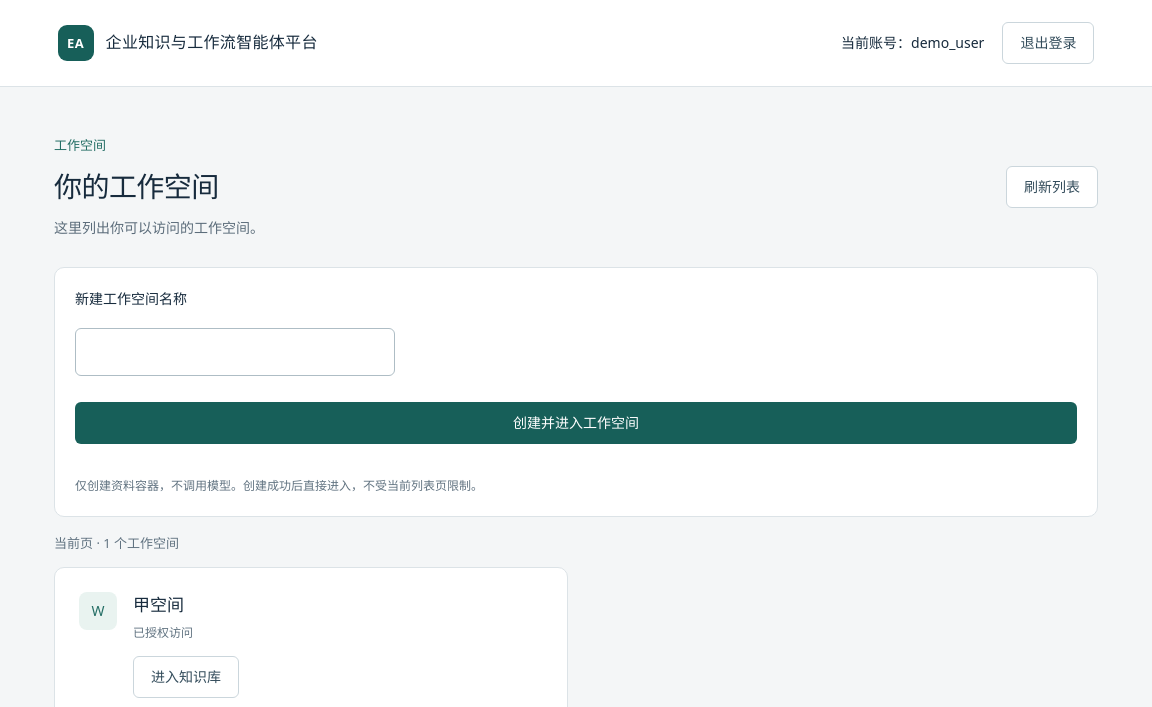
Test case: self-service workspace and knowledge-base setup › logout cancels an in-flight creation and a late 201 cannot reopen the workspace
Type "迟到空间" into the field labelled "新建工作空间名称" at (235, 352), box [75,328,395,376]
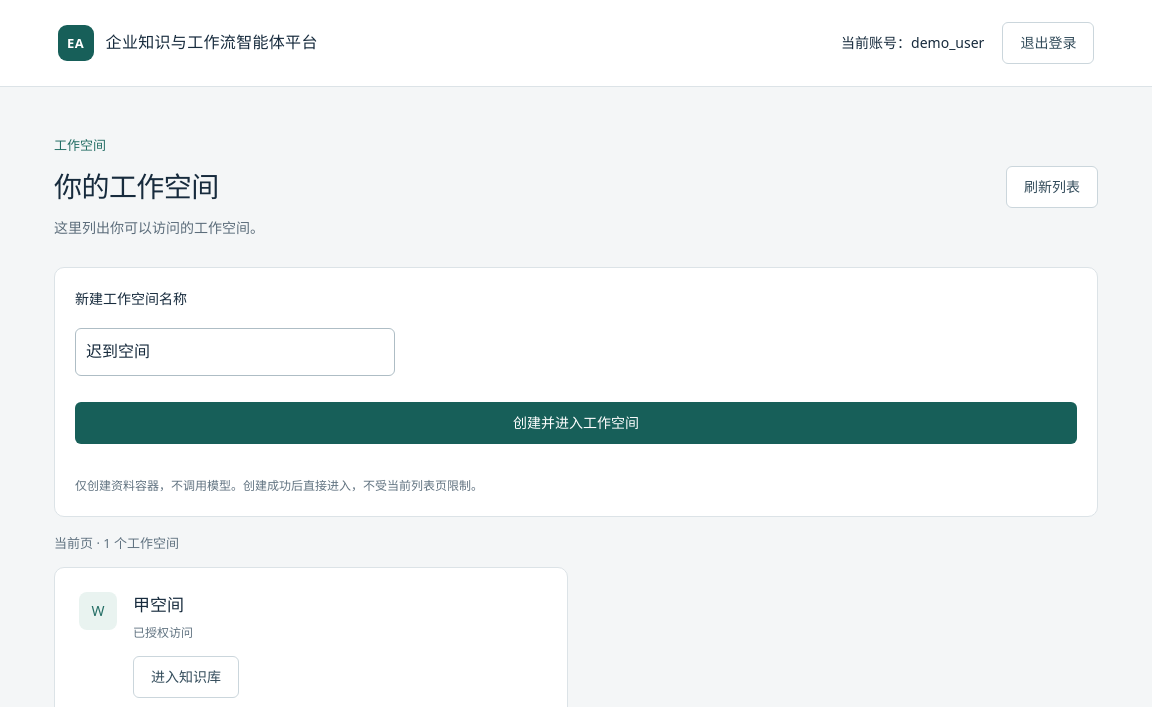
Click the button "创建并进入工作空间" at (576, 423), box [75,402,1077,444]
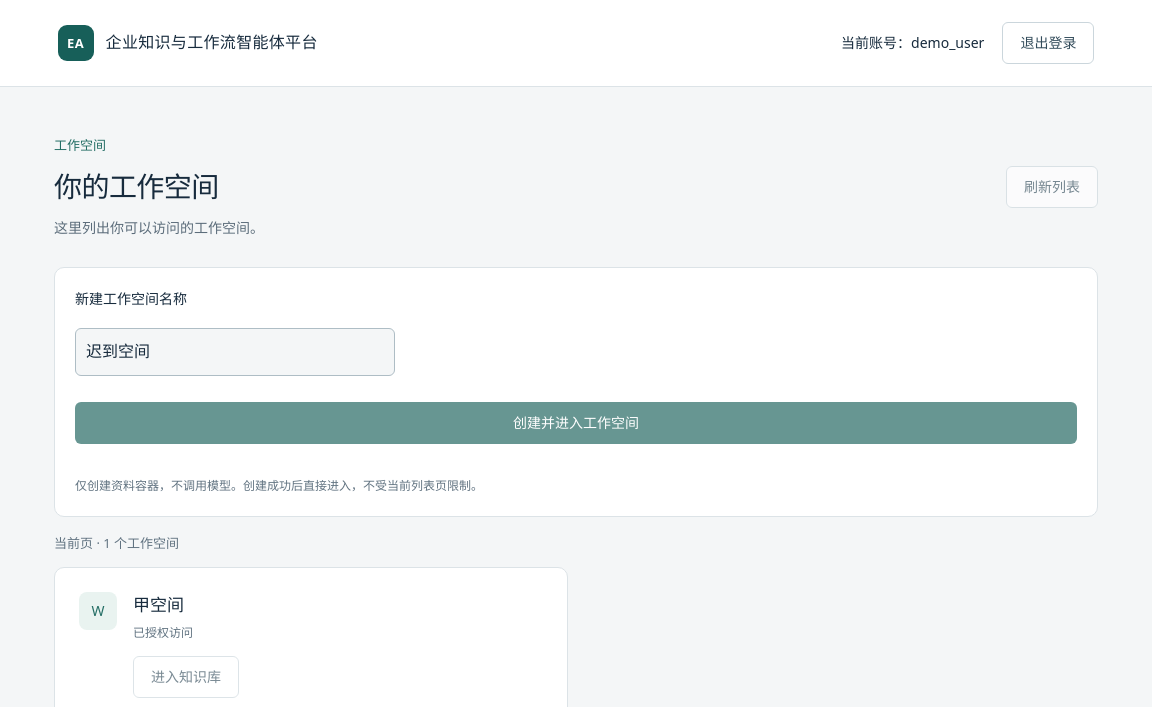
Result: the button "创建并进入工作空间" is disabled at [75,402,1077,444]
Result: the button "刷新列表" is disabled at [1006,166,1098,208]
Click the button "退出登录" at (1048, 43), box [1002,22,1094,64]
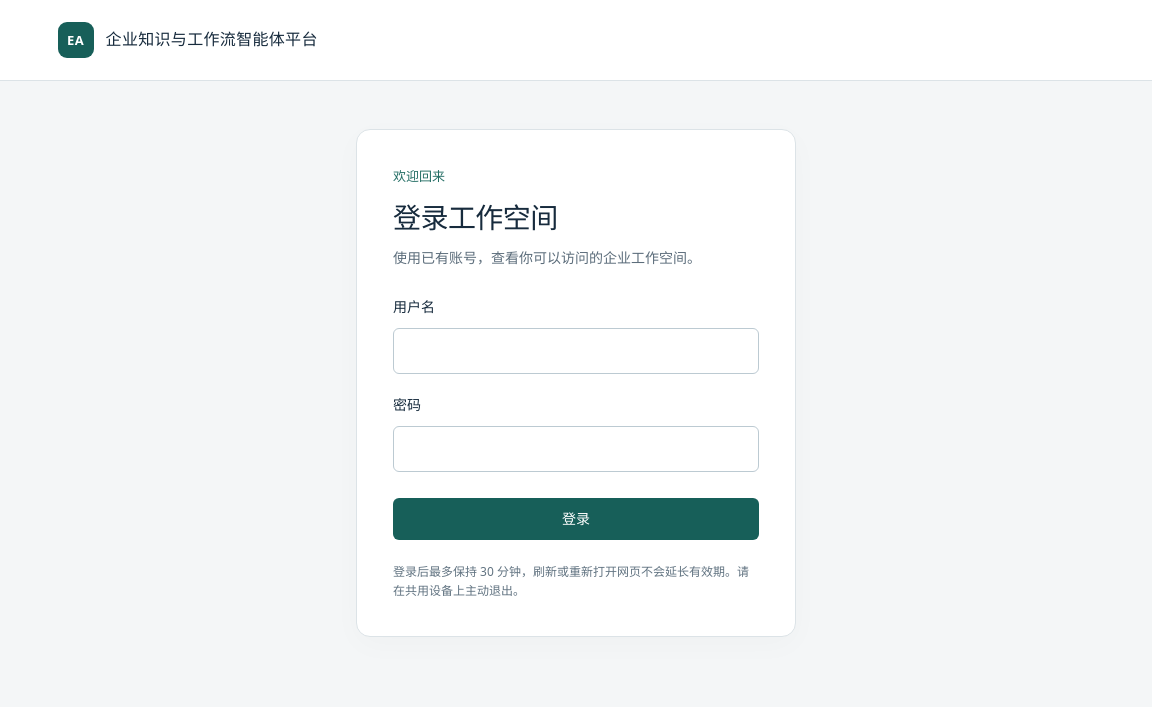
Result: the heading "登录工作空间" is shown at [393,198,558,236]
